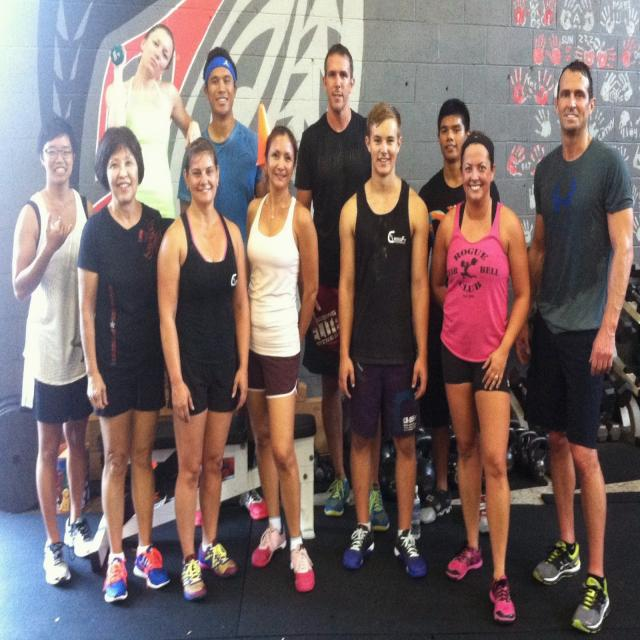body: (511, 55, 636, 638), (428, 128, 534, 628), (293, 41, 394, 534), (335, 96, 432, 585), (177, 46, 274, 530), (156, 135, 252, 602), (77, 123, 170, 603), (11, 116, 97, 587), (416, 98, 501, 534), (245, 123, 321, 593), (104, 22, 202, 220)
